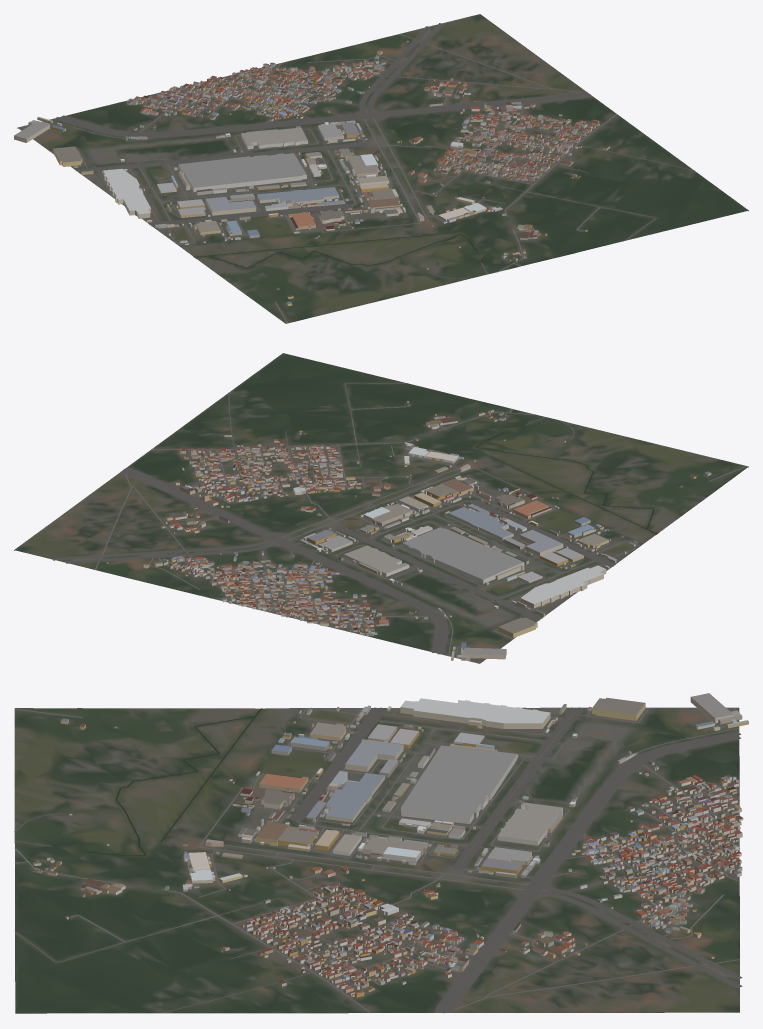
The picture shows the model from 3 angles, top to bottom: view 1: azimuth 30°, elevation 25°; view 2: azimuth 150°, elevation 25°; view 3: azimuth 270°, elevation 25°; orthographic projection. The views are drawn at different scales.
Parts seen in each view (by area): view 1: ground, buildings, roads, water; view 2: ground, buildings, roads, water; view 3: ground, buildings, roads, water.
Part boxes in pixels (x1,y1,x2,y2): ground: [17, 14, 748, 323]; buildings: [14, 40, 609, 305]; roads: [19, 23, 694, 323]; water: [194, 234, 477, 268]; ground: [14, 353, 748, 663]; buildings: [106, 401, 711, 660]; roads: [52, 382, 747, 662]; water: [476, 432, 656, 534]; ground: [14, 707, 739, 1013]; buildings: [33, 693, 748, 997]; roads: [14, 707, 742, 1013]; water: [86, 708, 262, 855].
Bounding box in the file's own units: 1444 × 20.4 × 1421.
